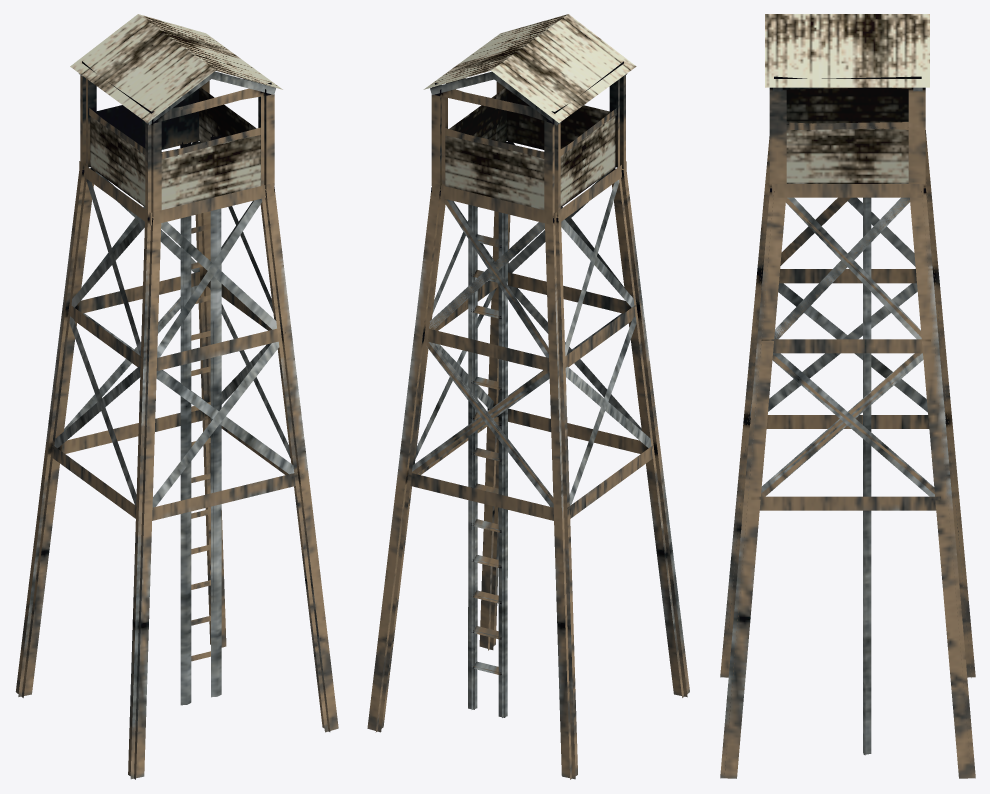
Rendered from large_tower_cgtrader_watchtower.glb.
3 renders of one model, left to right at view 1: azimuth 30°, elevation 25°; view 2: azimuth 150°, elevation 25°; view 3: azimuth 270°, elevation 25°, orthographic. The views are drawn at different scales.
Parts seen in each view (by area): view 1: part_0; view 2: part_0; view 3: part_0.
Boxes of the visible parts, box(x1,y1,x2,y2) form: part_0: box(15, 14, 338, 779); part_0: box(367, 14, 689, 779); part_0: box(720, 14, 975, 778).
Size of the model in its own units: 1 by 3.08 by 0.9996.
1 material, 1 textured.
